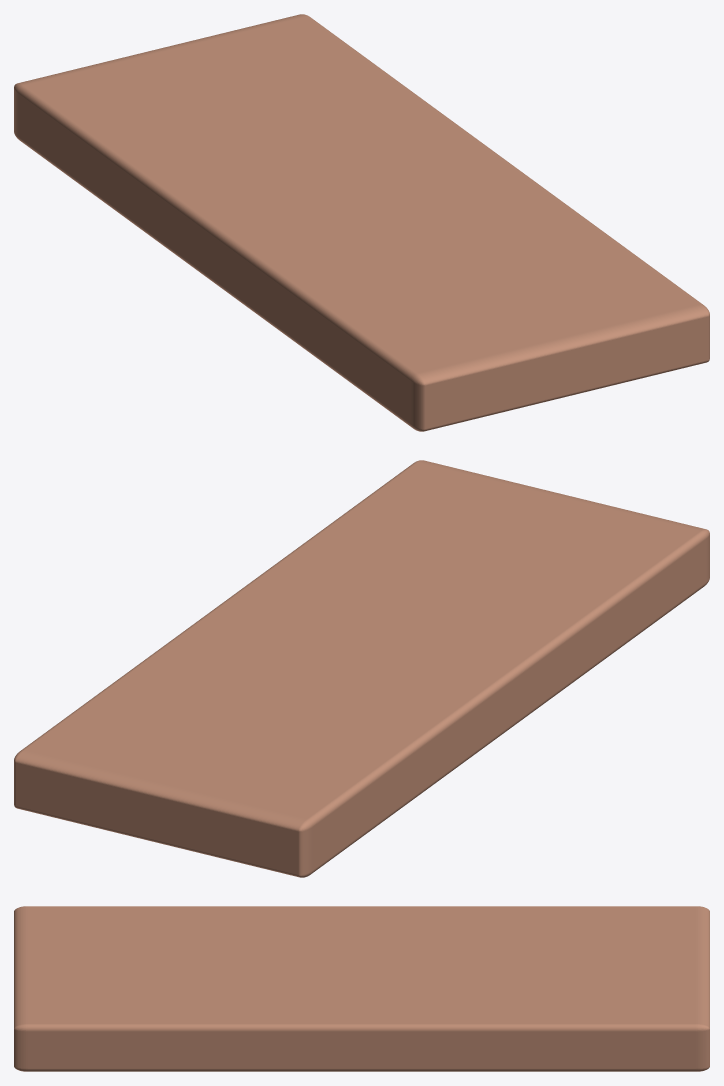
Rendered from estantería.fbx.
3 views of the same model, one above another, from view 1: azimuth 30°, elevation 25°; view 2: azimuth 150°, elevation 25°; view 3: azimuth 270°, elevation 25° (orthographic). The views are drawn at different scales.
Visible parts, largest first — view 1: ESTANTERÍA.003; view 2: ESTANTERÍA.003; view 3: ESTANTERÍA.003.
Part boxes in pixels (x1,y1,x2,y2): ESTANTERÍA.003: (14,14,709,431); ESTANTERÍA.003: (14,460,709,877); ESTANTERÍA.003: (14,906,709,1071).
Size of the model in its own units: 172 by 12.93 by 71.44.
